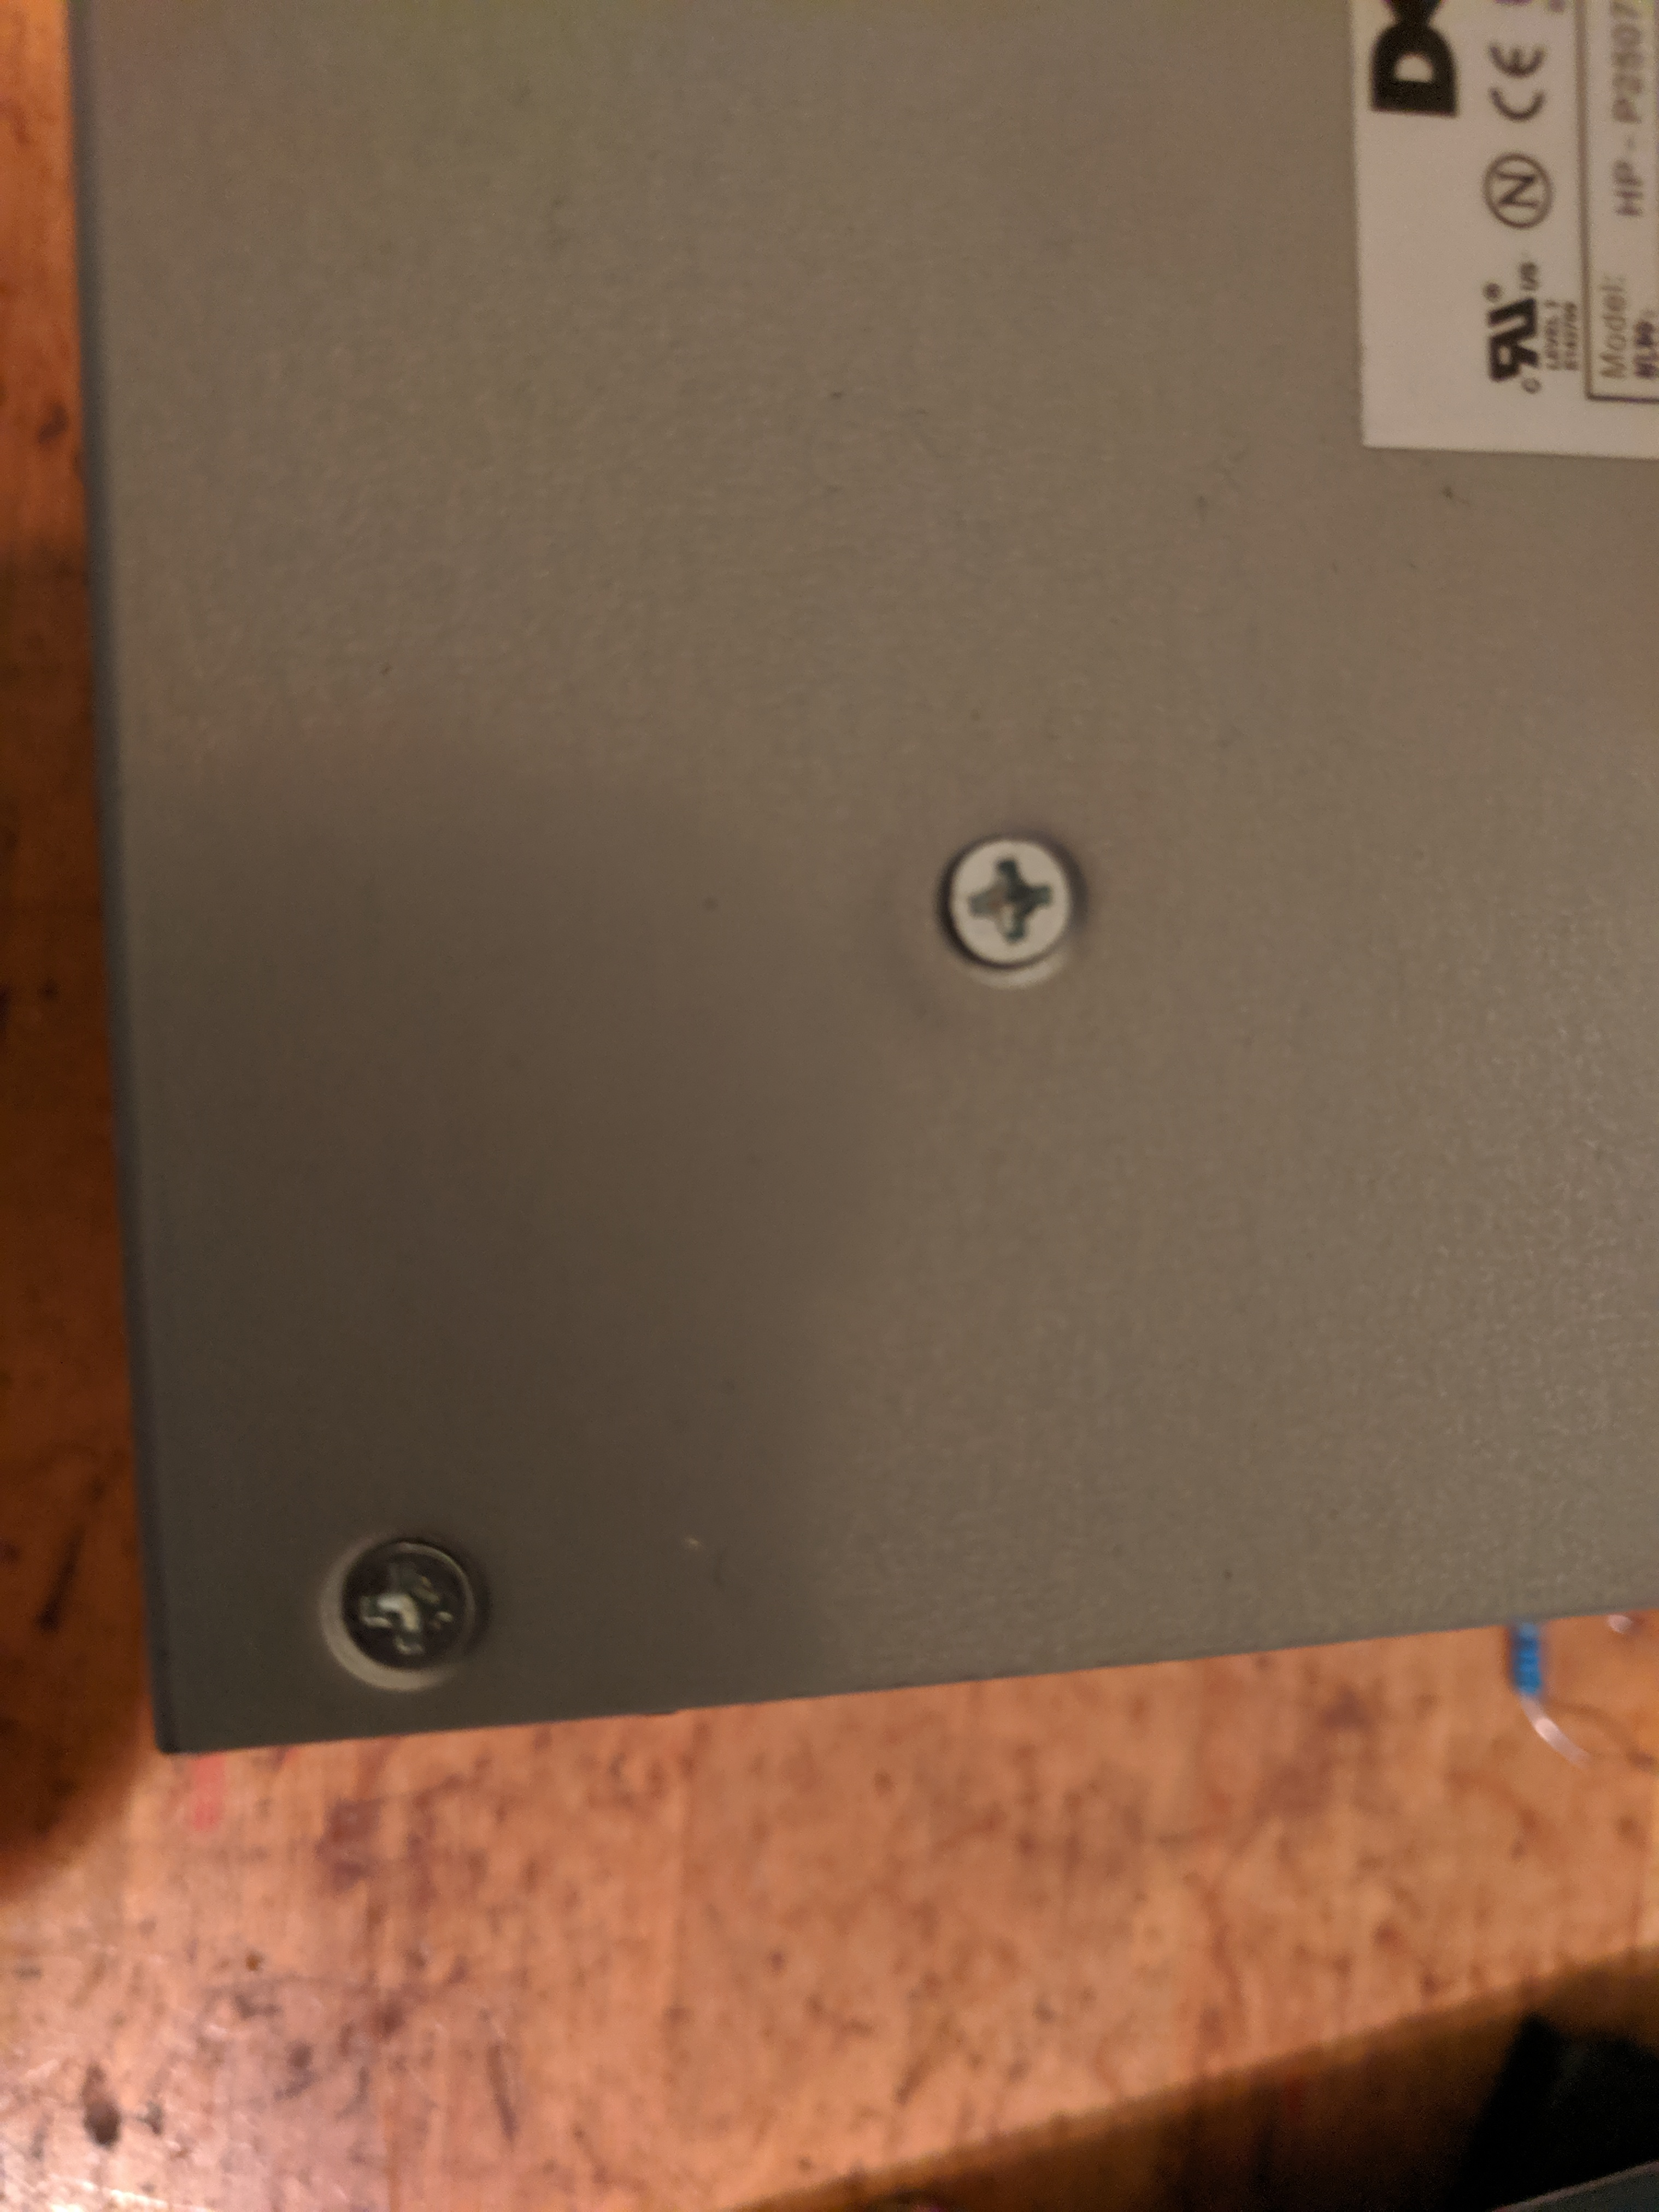cross_recessed_screw: (335, 1531, 491, 1681), (934, 831, 1087, 965)
